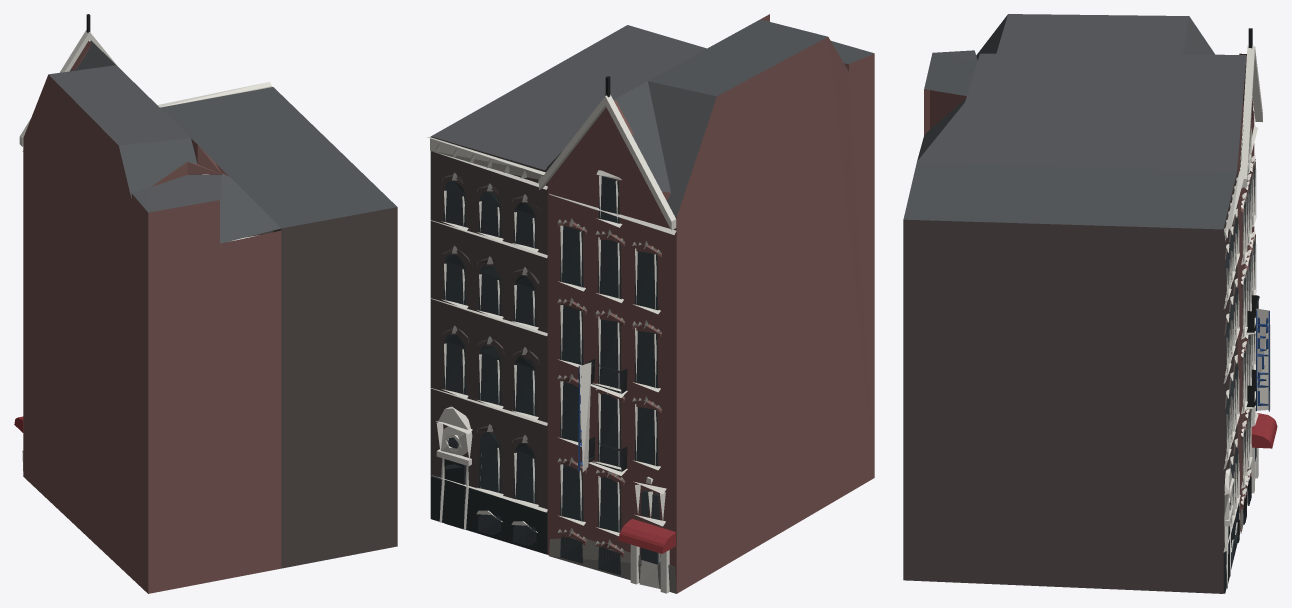
The model's file is sphinx-hotel.lod1.glb.
3 views of the same model, side by side, from view 1: azimuth 30°, elevation 25°; view 2: azimuth 150°, elevation 25°; view 3: azimuth 270°, elevation 25° (orthographic). The views are drawn at different scales.
Parts seen in each view (by area): view 1: sphinx-hotel; view 2: sphinx-hotel; view 3: sphinx-hotel.
Boxes of the visible parts, x1,y1,x2,y2 form: sphinx-hotel: (14,14,397,593); sphinx-hotel: (427,14,874,593); sphinx-hotel: (903,14,1277,593).
Bounding box in the file's own units: 13.61 × 22.2 × 15.82.
